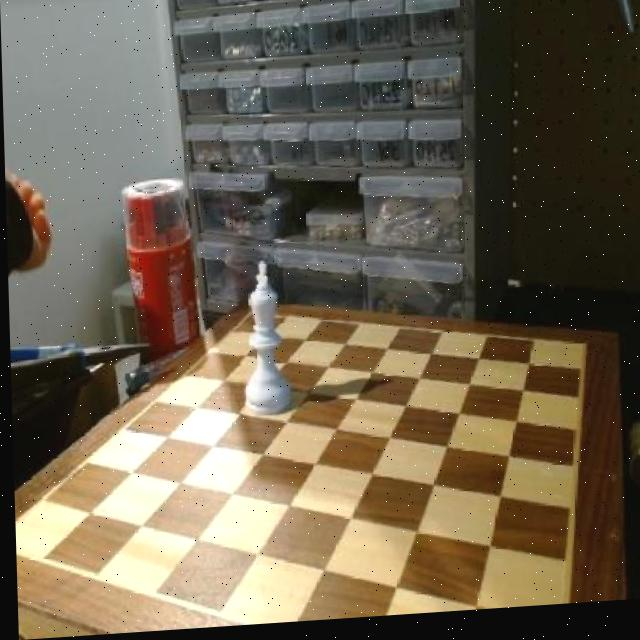white-bishop: (234, 259, 289, 421)
